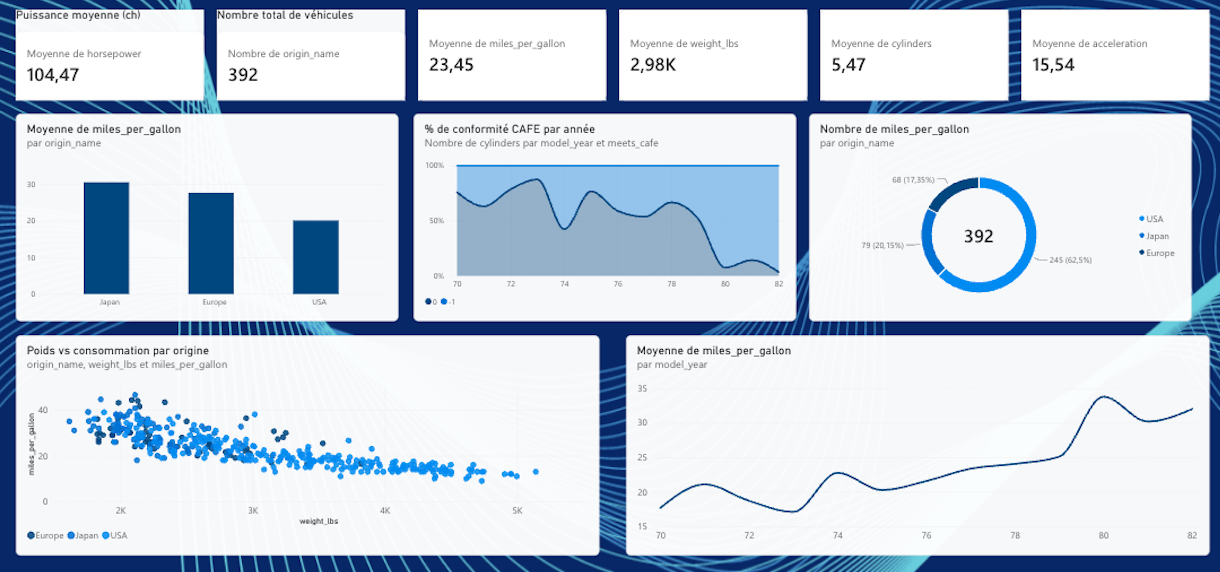

The page's visual inventory and layout, read from the dashboard file:
{"tool":"powerbi","page":{"name":"Page 1","canvas":[1920,1080],"ordinal":0},"visuals":[{"type":"clusteredColumnChart","fields":{"Category":["automobiles.origin_name"],"Y":["Avg(automobiles.miles_per_gallon)"]},"box":[40,280,590,320],"z":0},{"type":"hundredPercentStackedAreaChart","title":"% de conformité CAFE par année","fields":{"Category":["automobiles.model_year"],"Series":["automobiles.meets_cafe"],"Y":["CountNonNull(automobiles.cylinders)"]},"box":[650,280,590,320],"z":1},{"type":"scatterChart","title":"Poids vs consommation par origine","fields":{"Series":["automobiles.origin_name"],"X":["automobiles.weight_lbs"],"Y":["automobiles.miles_per_gallon"]},"box":[40,620,900,340],"z":2},{"type":"cardVisual","title":"Puissance moyenne (ch)","fields":{"Data":["Avg(automobiles.horsepower)"]},"box":[40,120,290,140],"z":3},{"type":"cardVisual","title":"Nombre total de véhicules","fields":{"Data":["CountNonNull(automobiles.origin_name)"]},"box":[350,120,290,140],"z":4},{"type":"textbox","box":[38.3,20,1843.3,80],"z":5},{"type":"cardVisual","fields":{"Data":["Avg(automobiles.miles_per_gallon)"]},"box":[660,120,290,140],"z":6},{"type":"cardVisual","fields":{"Data":["Avg(automobiles.weight_lbs)"]},"box":[970,120,290,140],"z":7},{"type":"cardVisual","fields":{"Data":["Avg(automobiles.cylinders)"]},"box":[1280,120,290,140],"z":8},{"type":"cardVisual","fields":{"Data":["Avg(automobiles.acceleration)"]},"box":[1590,120,290,140],"z":9},{"type":"donutChart","fields":{"Category":["automobiles.origin_name"],"Y":["CountNonNull(automobiles.miles_per_gallon)"]},"box":[1260,280,590,320],"z":10},{"type":"lineChart","fields":{"Category":["automobiles.model_year"],"Y":["Avg(automobiles.miles_per_gallon)"]},"box":[980,620,900,340],"z":11}]}

Visuals, with their boxes on the page's 1920x1080 design canvas (x1, y1, x2, y2). These are canvas units, not pixel positions in the 1220x572 screenshot, which may show the page scaled, cropped or inside an application window:
clusteredColumnChart - automobiles.origin_name x Avg(automobiles.miles_per_gallon): [40,280,630,600]
"% de conformité CAFE par année" hundredPercentStackedAreaChart: [650,280,1240,600]
"Poids vs consommation par origine" scatterChart: [40,620,940,960]
"Puissance moyenne (ch)" cardVisual: [40,120,330,260]
"Nombre total de véhicules" cardVisual: [350,120,640,260]
textbox: [38,20,1882,100]
cardVisual - Avg(automobiles.miles_per_gallon): [660,120,950,260]
cardVisual - Avg(automobiles.weight_lbs): [970,120,1260,260]
cardVisual - Avg(automobiles.cylinders): [1280,120,1570,260]
cardVisual - Avg(automobiles.acceleration): [1590,120,1880,260]
donutChart - automobiles.origin_name x CountNonNull(automobiles.miles_per_gallon): [1260,280,1850,600]
lineChart - automobiles.model_year x Avg(automobiles.miles_per_gallon): [980,620,1880,960]
